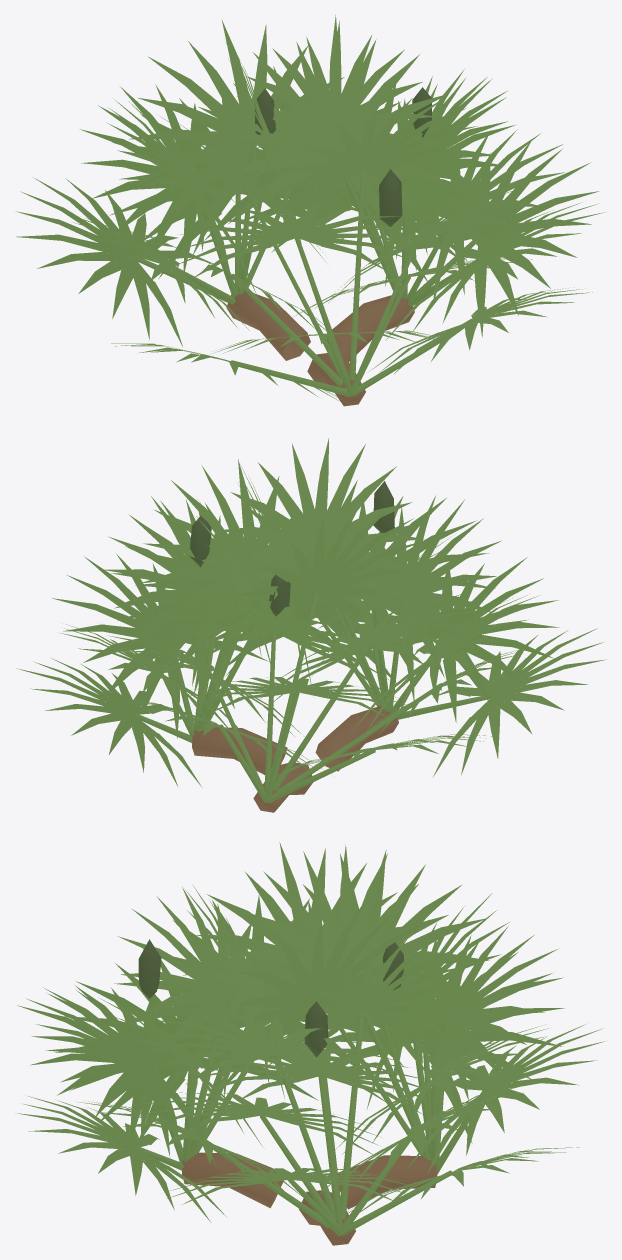
Rendered from Blender_SawPalmetto_1.glb.
3 renders of one model, top to bottom at view 1: azimuth 30°, elevation 25°; view 2: azimuth 150°, elevation 25°; view 3: azimuth 270°, elevation 25°, orthographic. The views are drawn at different scales.
Parts seen in each view (by area): view 1: Blender_SawPalmetto_1; view 2: Blender_SawPalmetto_1; view 3: Blender_SawPalmetto_1.
Part boxes in pixels (x1,y1,x2,y2): Blender_SawPalmetto_1: (16, 15, 604, 406); Blender_SawPalmetto_1: (16, 438, 605, 812); Blender_SawPalmetto_1: (15, 842, 604, 1245).
Bounding box in the file's own units: 2.82 × 1.74 × 2.8.
